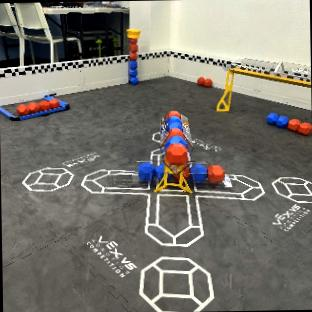Goal: (217, 58, 310, 111)
Parking-R: (0, 95, 67, 120)
V5_BLUE: (190, 163, 206, 181), (266, 113, 288, 126), (139, 162, 155, 179), (167, 116, 181, 130), (129, 60, 137, 82), (155, 163, 164, 180)
V5_RED: (17, 98, 59, 114), (165, 138, 187, 163), (288, 118, 311, 134), (207, 165, 223, 180), (128, 37, 136, 59), (197, 78, 211, 86), (166, 110, 178, 117)
